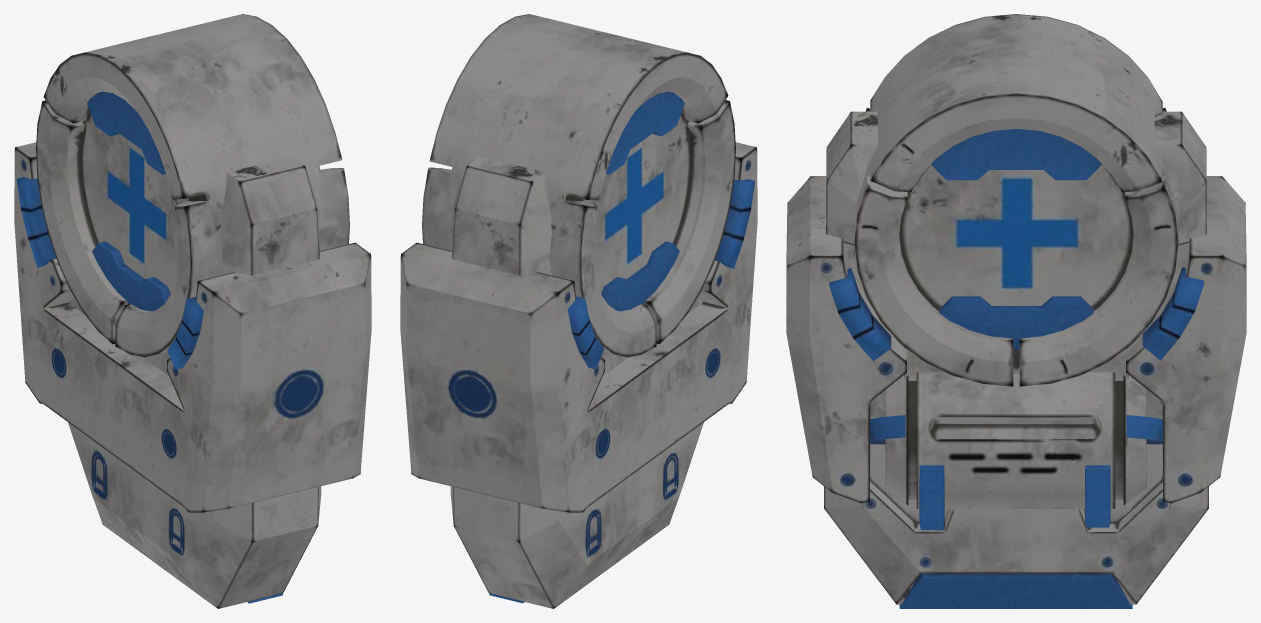
The model's file is wall_heal.glb.
The picture shows the model from 3 angles, left to right: view 1: azimuth 30°, elevation 25°; view 2: azimuth 150°, elevation 25°; view 3: azimuth 270°, elevation 25°; orthographic projection. The views are drawn at different scales.
Visible parts, largest first — view 1: leftright_low, cyl_up_low, base_low, leftright_small_low, cyl_up_arm_low, cyl_up_arm_d_low; view 2: leftright_low, cyl_up_low, base_low, leftright_small_low, cyl_up_arm_low, cyl_up_arm_d_low; view 3: cyl_up_low, leftright_low, base_low, cyl_mid_low, base_down_low, cyl_up_arm_low, leftright_small_low, cyl_up_arm_d_low, back_lf_low, Cube_down_low, Cube_down2_low.
Part boxes in pixels (x1,y1,x2,y2): leftright_low: [14, 142, 371, 512]; cyl_up_low: [36, 14, 349, 357]; base_low: [68, 156, 321, 608]; leftright_small_low: [16, 177, 203, 369]; cyl_up_arm_low: [87, 91, 165, 174]; cyl_up_arm_d_low: [92, 241, 170, 311]; leftright_low: [400, 142, 757, 512]; cyl_up_low: [422, 14, 735, 357]; base_low: [450, 156, 703, 608]; leftright_small_low: [567, 179, 755, 369]; cyl_up_arm_low: [606, 91, 684, 174]; cyl_up_arm_d_low: [601, 241, 679, 311]; cyl_up_low: [854, 14, 1178, 386]; leftright_low: [786, 176, 1246, 503]; base_low: [824, 111, 1208, 604]; cyl_mid_low: [885, 372, 1146, 508]; base_down_low: [899, 573, 1132, 608]; cyl_up_arm_low: [931, 129, 1101, 180]; leftright_small_low: [829, 267, 1203, 361]; cyl_up_arm_d_low: [939, 296, 1093, 349]; back_lf_low: [870, 415, 1162, 444]; Cube_down_low: [919, 465, 944, 530]; Cube_down2_low: [1085, 465, 1110, 527].
Bounding box in the file's own units: 0.2578 × 0.6216 × 0.4823.
1 material, 1 textured.
